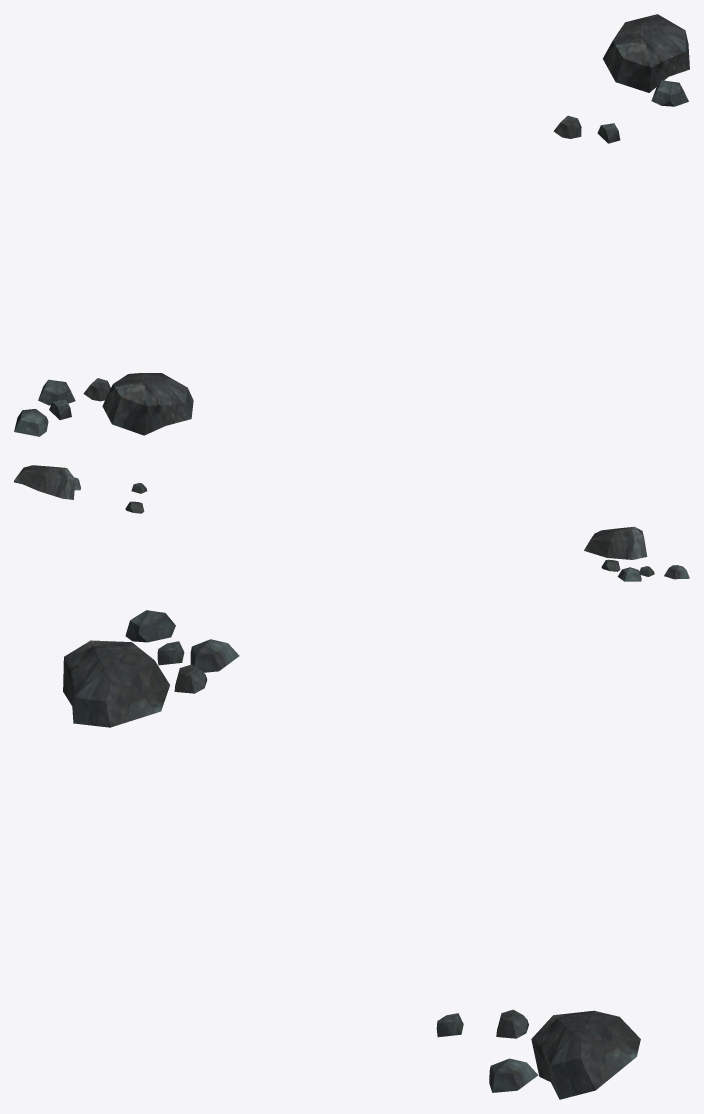
Rendered from object_rubble08.fbx.
3 views of the same model, one above another, from view 1: azimuth 30°, elevation 25°; view 2: azimuth 150°, elevation 25°; view 3: azimuth 270°, elevation 25° (orthographic). The views are drawn at different scales.
Parts seen in each view (by area): view 1: obj0.085; view 2: obj0.085; view 3: obj0.085.
Part boxes in pixels (x1,y1,x2,y2): obj0.085: [14, 14, 689, 436]; obj0.085: [14, 465, 689, 581]; obj0.085: [63, 610, 640, 1099].
Bounding box in the file's own units: 11.87 × 1.32 × 5.27.
